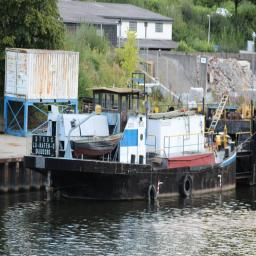tugboat: (24, 73, 238, 207)
